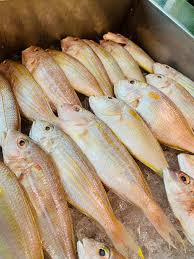Ikan Kerisi: (3, 126, 73, 259), (92, 88, 161, 183), (30, 116, 92, 211), (114, 68, 184, 149), (55, 99, 119, 183), (20, 42, 69, 112)
